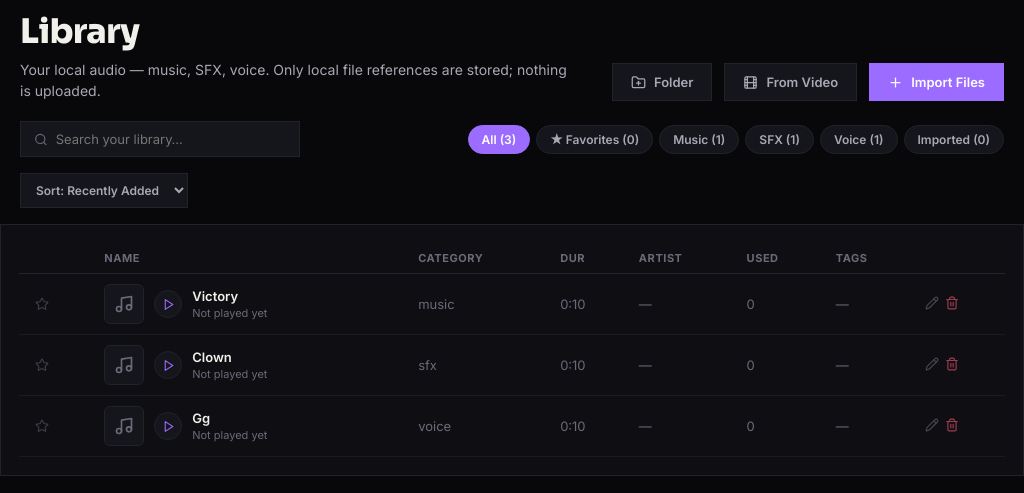
Test: LibraryPage › filters by category chip
Click the button "SFX (1)". click: {"x": 780, "y": 139}
box: [745,124,814,154]
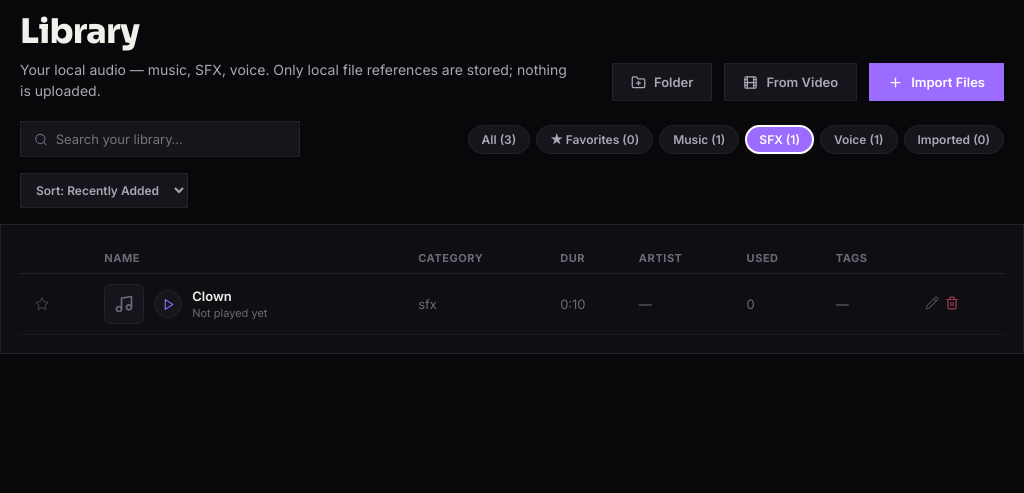
Expected: the text "Clown" is shown, [192,288,232,304]
Now the text "Victory" is gone
Now the text "Gg" is gone
